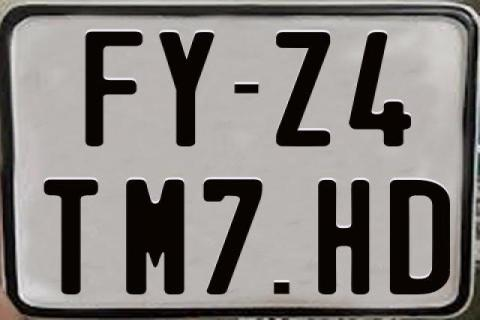0: (203, 179, 265, 297), (346, 32, 410, 146)
D: (388, 179, 453, 299)
F: (84, 32, 143, 150)
H: (318, 178, 370, 294)
M: (124, 178, 183, 298)
T: (42, 178, 100, 294)
Y: (156, 29, 213, 145)
Z: (275, 29, 330, 145)
